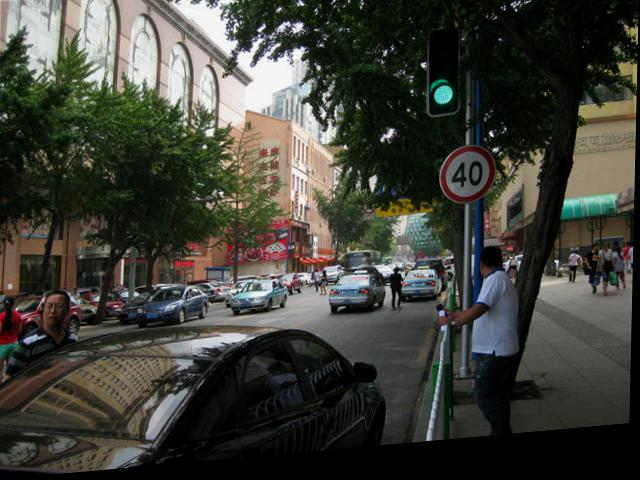limit40: (437, 151, 500, 215)
